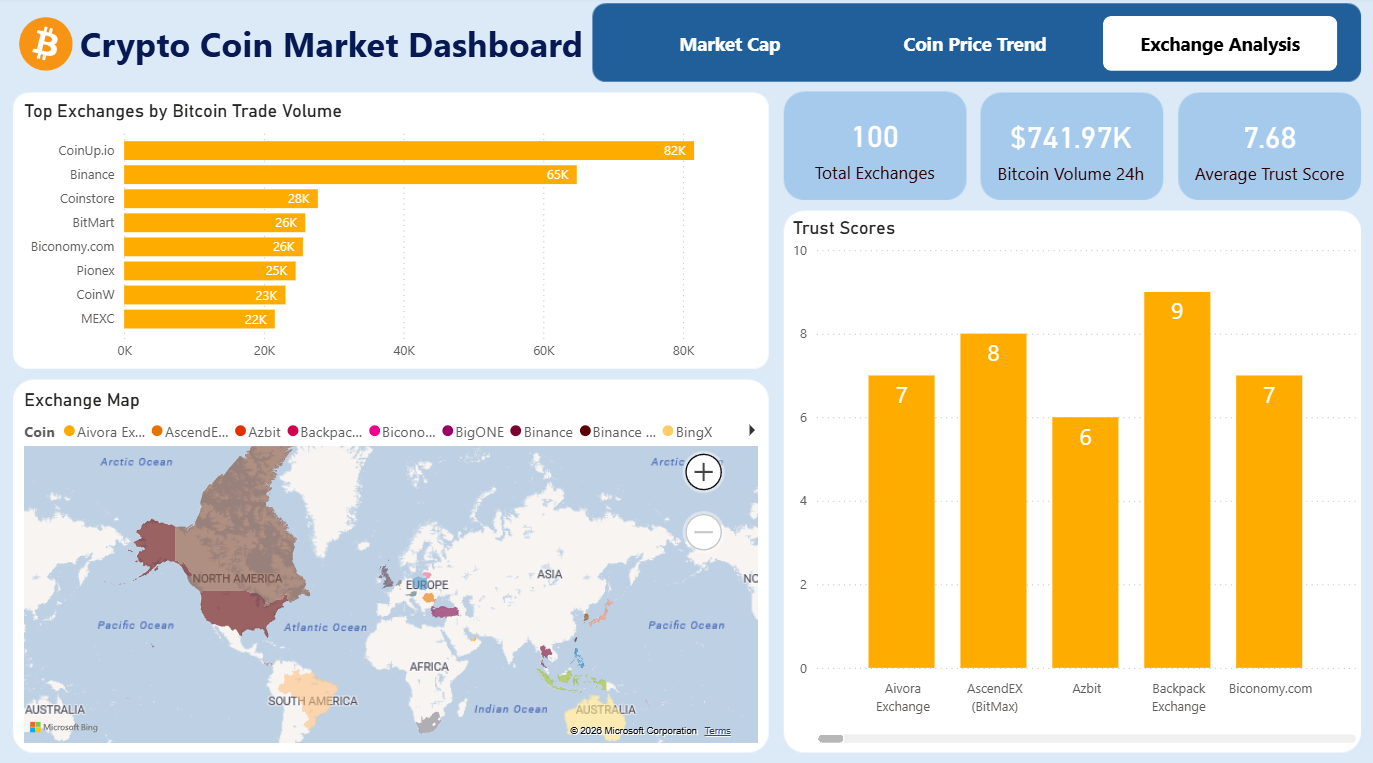

What the dashboard file says about the page in this screenshot:
{"tool":"powerbi","page":{"name":"Exchange Analysis","canvas":[1280,720],"ordinal":2},"visuals":[{"type":"filledMap","title":"Exchange Map","fields":{"Series":["Exchanges.name"],"Category":["Exchanges.country"]},"box":[18.6,365,692.1,335],"z":0},{"type":"barChart","title":"Top Exchanges by Bitcoin Trade Volume","fields":{"Y":["Sum(Exchanges.trade_volume_24h_btc)"],"Category":["Exchanges.name"]},"box":[18.6,96.4,697.9,250.7],"z":1000},{"type":"columnChart","title":"Trust Scores","fields":{"Category":["Exchanges.name"],"Y":["Sum(Exchanges.trust_score)"]},"box":[733.8,206.2,533.8,493.8],"z":2000},{"type":"card","fields":{"Values":["Exchanges.Total Exchanges"]},"box":[729.3,90,171.4,101.4],"z":2001},{"type":"card","fields":{"Values":["Exchanges.Total Bitcoin Volume"]},"box":[912.1,90.7,171.4,101.4],"z":2002},{"type":"card","fields":{"Values":["Exchanges.Average Trust Score"]},"box":[1096.4,90.7,171.4,101.4],"z":2003},{"type":"textbox","title":"CryptoCoin Market Dashboard","box":[14.5,16.9,534.5,56.7],"z":2004},{"type":"image","box":[14.5,19.3,59.1,49.5],"z":2005},{"type":"pageNavigator","box":[570.6,18.1,675.6,51.9],"z":2006}]}

Visuals, with their boxes in screenshot pixels (x1, y1, x2, y2), scaled from the page's 1280x720 canvas onto the 1373x763 screenshot:
"Exchange Map" filledMap: x1=20 y1=387 x2=762 y2=742
"Top Exchanges by Bitcoin Trade Volume" barChart: x1=20 y1=102 x2=769 y2=368
"Trust Scores" columnChart: x1=787 y1=219 x2=1360 y2=742
card - Exchanges.Total Exchanges: x1=782 y1=95 x2=966 y2=203
card - Exchanges.Total Bitcoin Volume: x1=978 y1=96 x2=1162 y2=204
card - Exchanges.Average Trust Score: x1=1176 y1=96 x2=1360 y2=204
"CryptoCoin Market Dashboard" textbox: x1=16 y1=18 x2=589 y2=78
image: x1=16 y1=20 x2=79 y2=73
pageNavigator: x1=612 y1=19 x2=1337 y2=74
